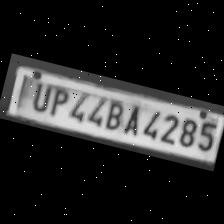2: (156, 109, 180, 145)
4: (64, 86, 92, 124), (138, 104, 164, 141), (83, 90, 108, 128)
5: (192, 116, 220, 154)
8: (174, 113, 199, 148)
A: (119, 99, 146, 137)
B: (99, 94, 126, 132)
P: (43, 82, 70, 119)
U: (25, 77, 53, 113)
